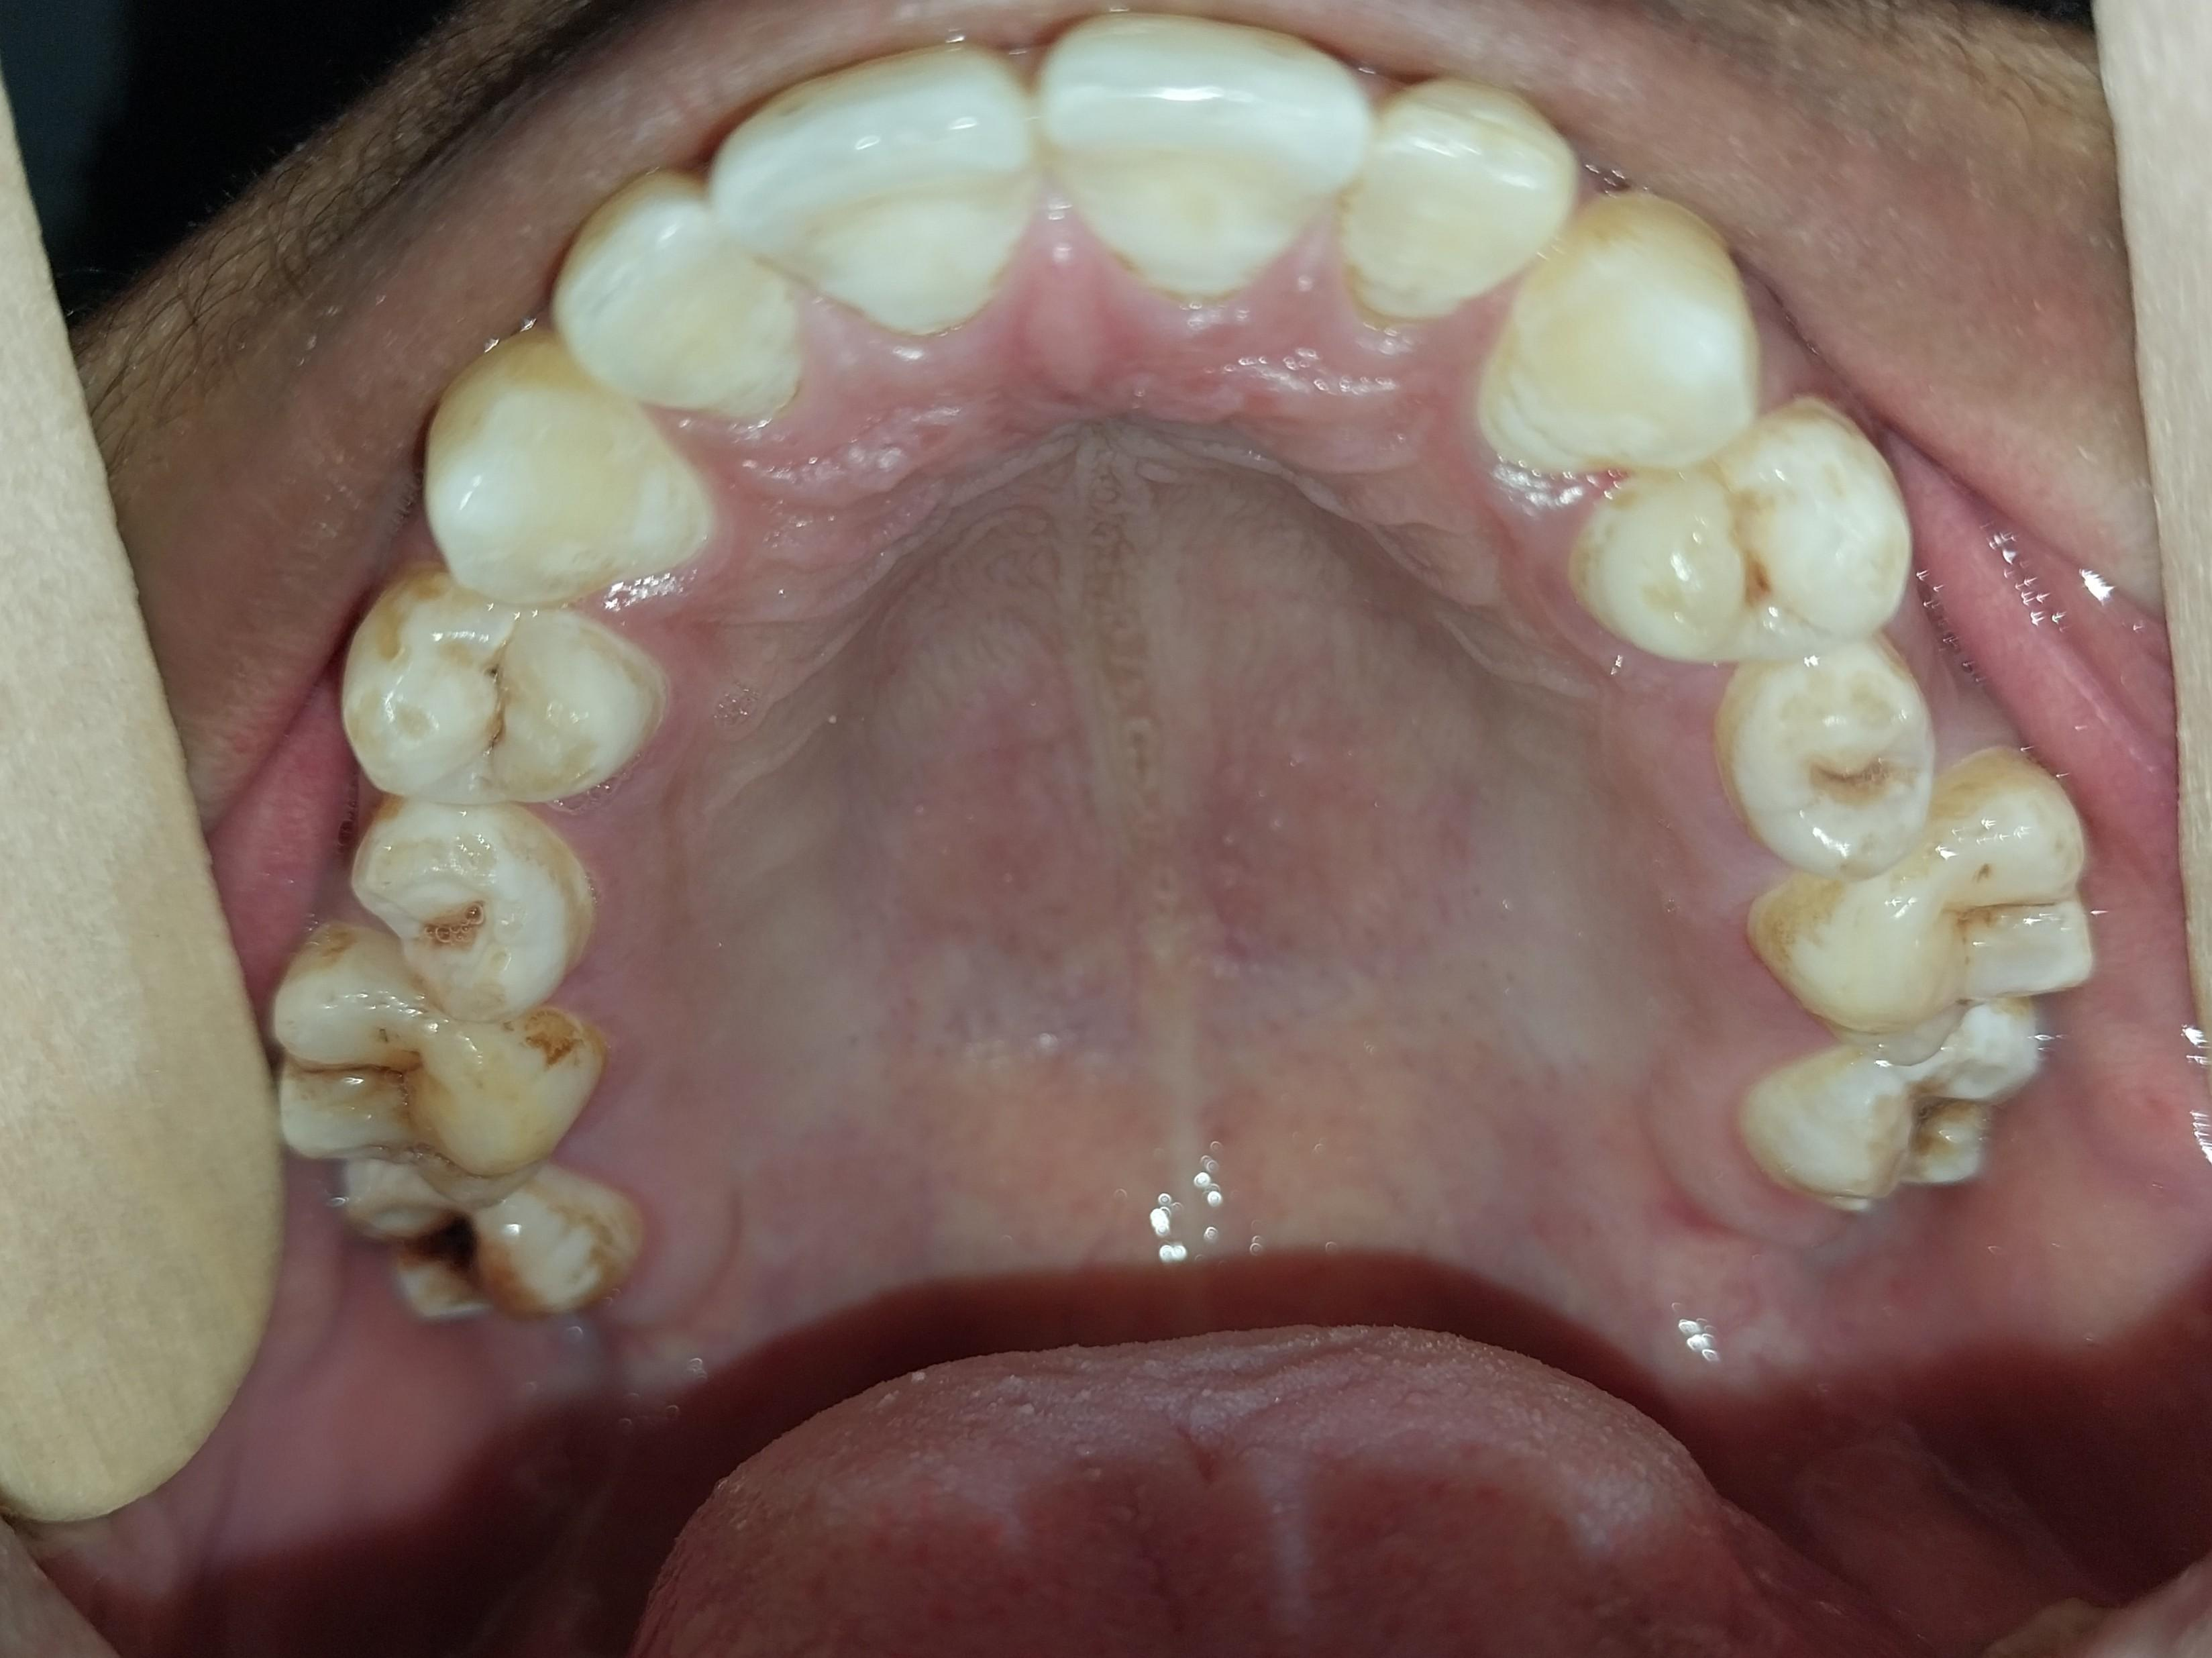D: (274, 925, 597, 1214), (1740, 1002, 2073, 1235), (352, 559, 648, 807), (327, 1155, 648, 1350), (335, 803, 599, 1023)
